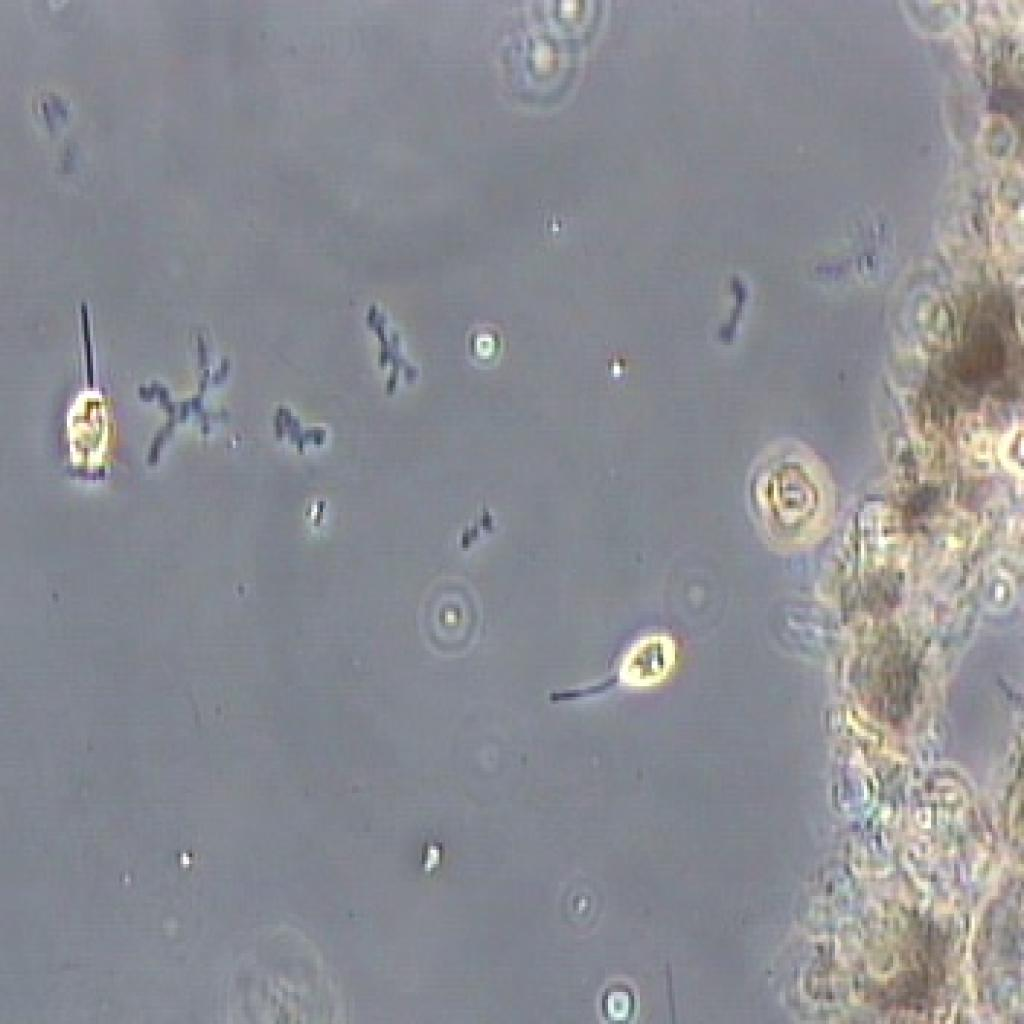Vorticella: (530, 613, 696, 720)
